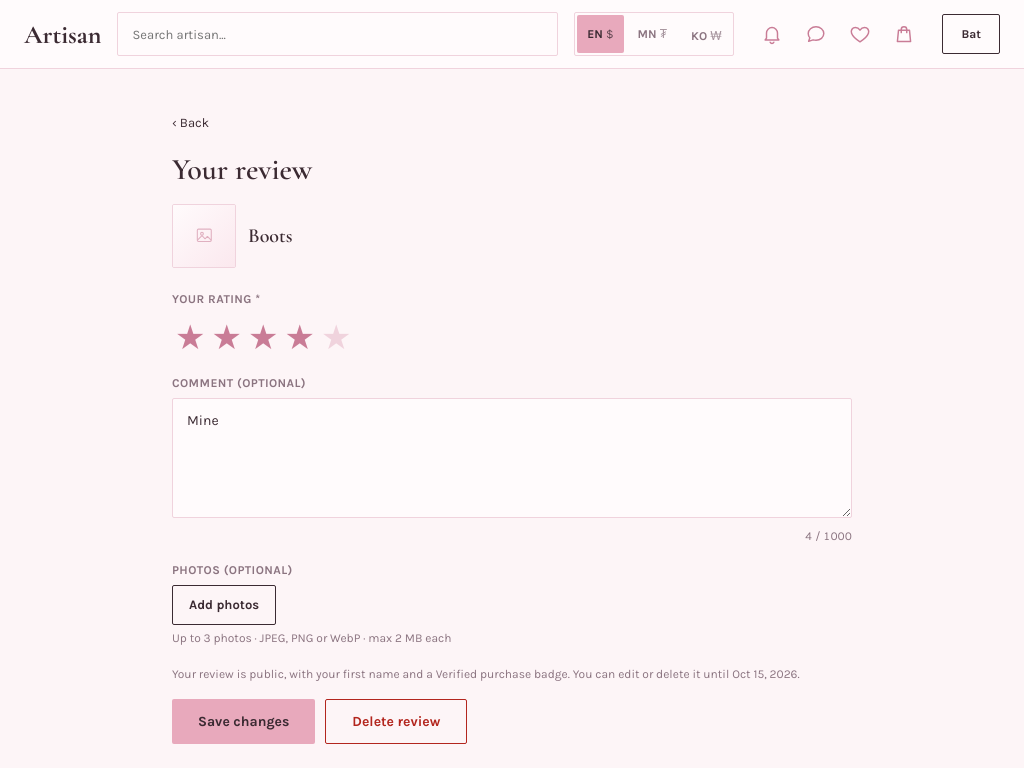
the review form › deleting says it can be written again until the original date
The image size is (1024, 768).
What coordinates should you click on to do the following:
click the button "Delete review"
I would click on:
 (396, 721)
Its box is [325, 698, 467, 744].
(page scrolled)
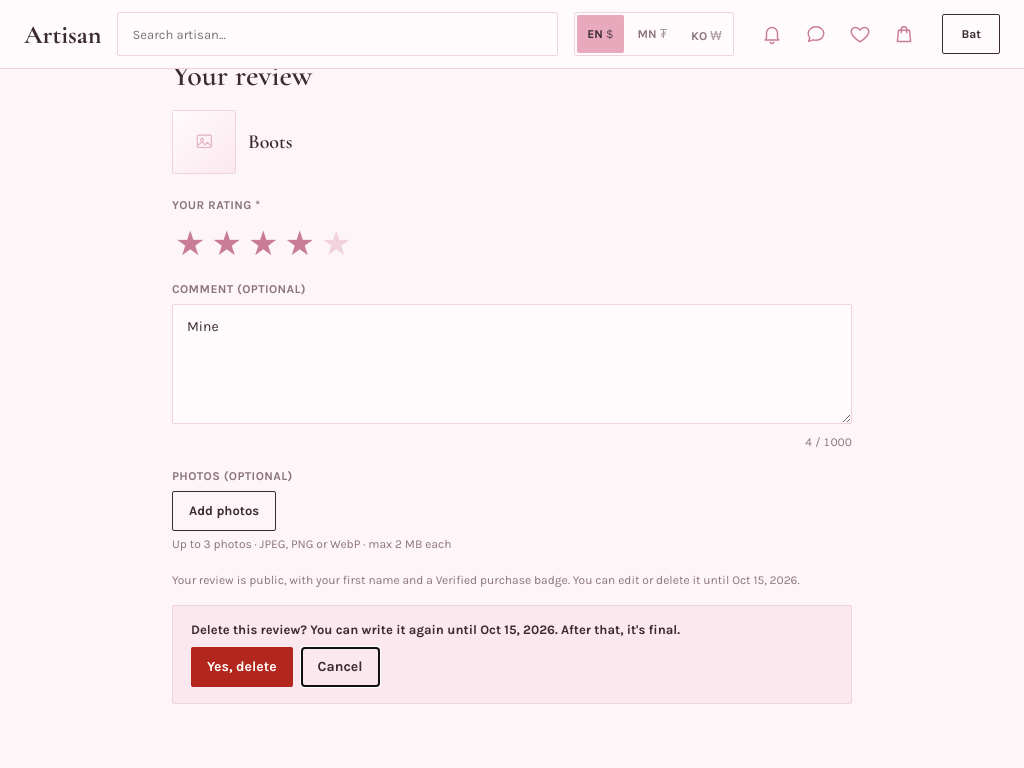
Result: the dialog shows "write it again until Oct 15, 2026" at [191, 622, 680, 636]
